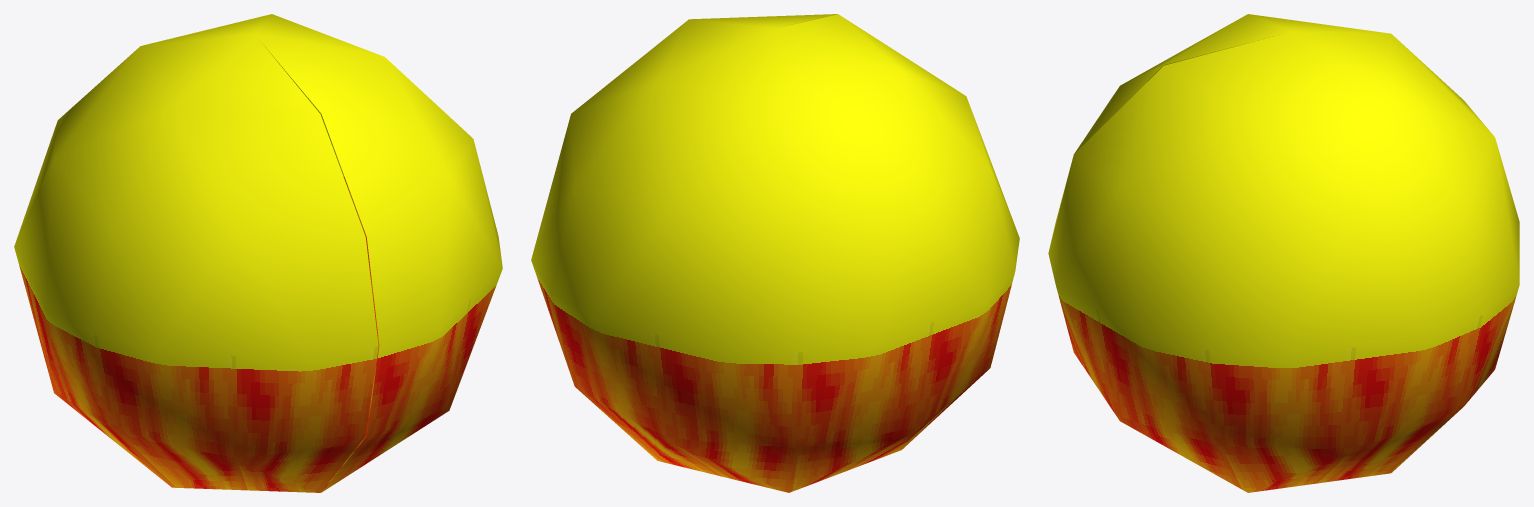
File: ShockDome3D.glb
3 views of the same model, side by side, from view 1: azimuth 30°, elevation 25°; view 2: azimuth 150°, elevation 25°; view 3: azimuth 270°, elevation 25° (orthographic).
Parts seen in each view (by area): view 1: ShockDome3D; view 2: ShockDome3D; view 3: ShockDome3D.
Part boxes in pixels (<box>): ShockDome3D: <box>14,14,502,492</box>; ShockDome3D: <box>531,14,1019,492</box>; ShockDome3D: <box>1048,14,1519,492</box>.
Size of the model in its own units: 26.1 by 26.1 by 25.22.
Materials: 1 (1 with a texture image).
